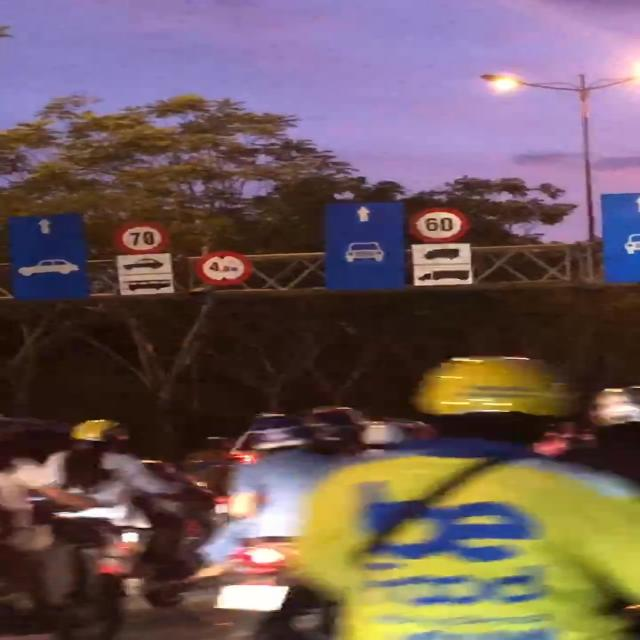Bien bao toc do toi da cho phep: (406, 208, 472, 243), (109, 222, 171, 255)
